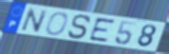5: (114, 19, 138, 46)
8: (137, 24, 158, 48)
E: (88, 17, 118, 43)
N: (19, 7, 50, 34)
O: (44, 12, 70, 37)
S: (67, 13, 93, 40)
